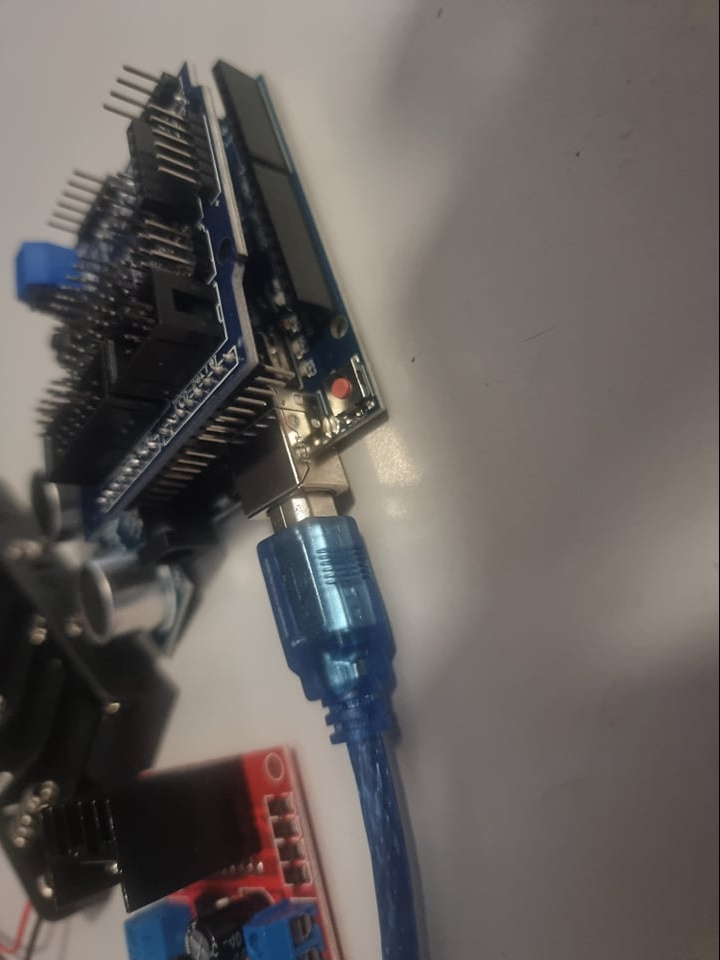5V EXPANSION: (16, 61, 220, 507)
BATTERY BOX: (1, 553, 174, 887)
MOTOR: (40, 741, 329, 960)
SENSOR: (35, 512, 218, 651)
UNO R3: (216, 83, 391, 525)
